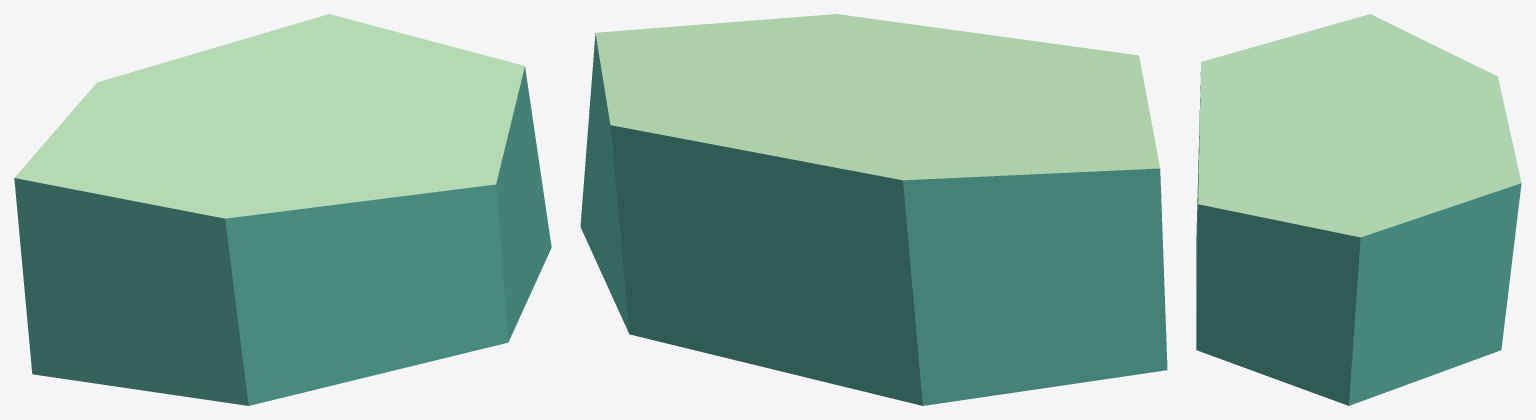
The model's file is chunk.glb.
3 renders of one model, left to right at view 1: azimuth 30°, elevation 25°; view 2: azimuth 150°, elevation 25°; view 3: azimuth 270°, elevation 25°, orthographic. The views are drawn at different scales.
Parts seen in each view (by area): view 1: Chunk; view 2: Chunk; view 3: Chunk.
Part boxes in pixels (bbox=[...]): Chunk: bbox=[14, 14, 551, 405]; Chunk: bbox=[580, 14, 1167, 405]; Chunk: bbox=[1196, 14, 1521, 405].
Bounding box in the file's own units: 0.91 × 0.3203 × 0.554.
